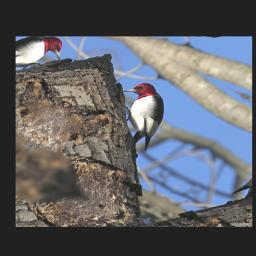Woodpecker: (89, 73, 191, 155)
